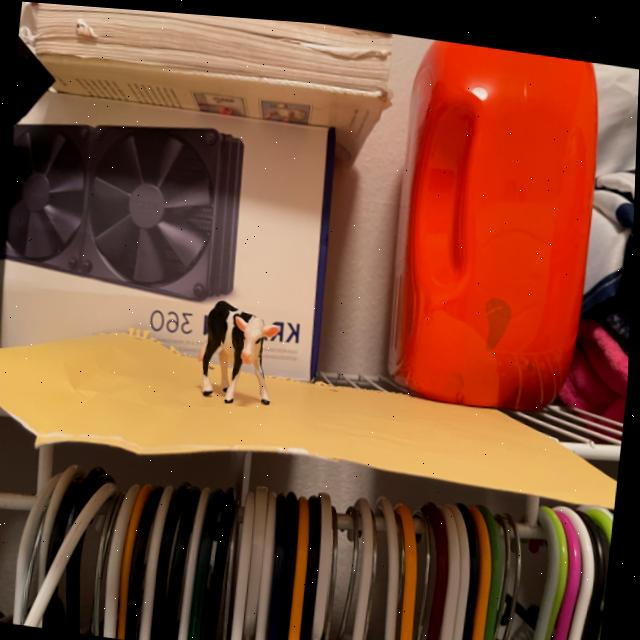cow: (195, 295, 284, 404), (218, 310, 224, 317), (262, 322, 265, 327)
